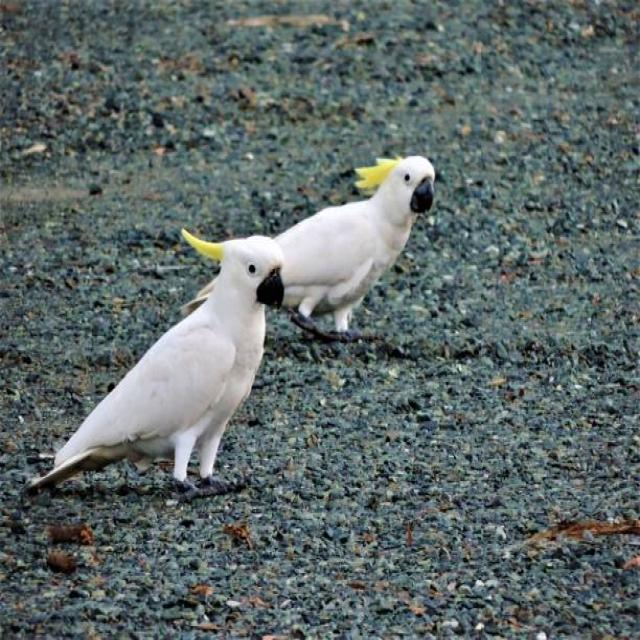Kakatua Putih: (25, 203, 291, 507), (220, 136, 447, 358)
